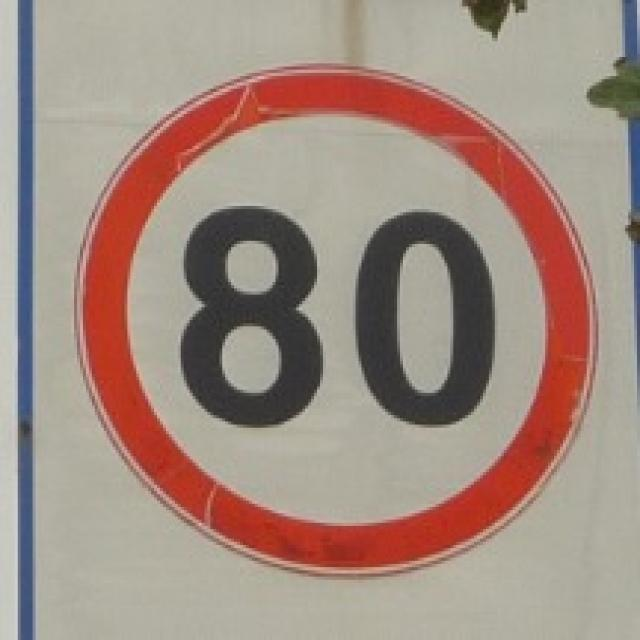Speed Limit -80-: (178, 206, 500, 429)
